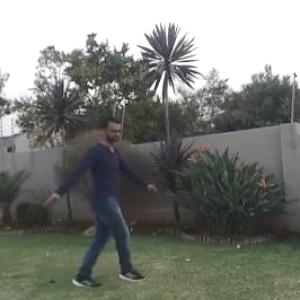land: (36, 101, 164, 299)
